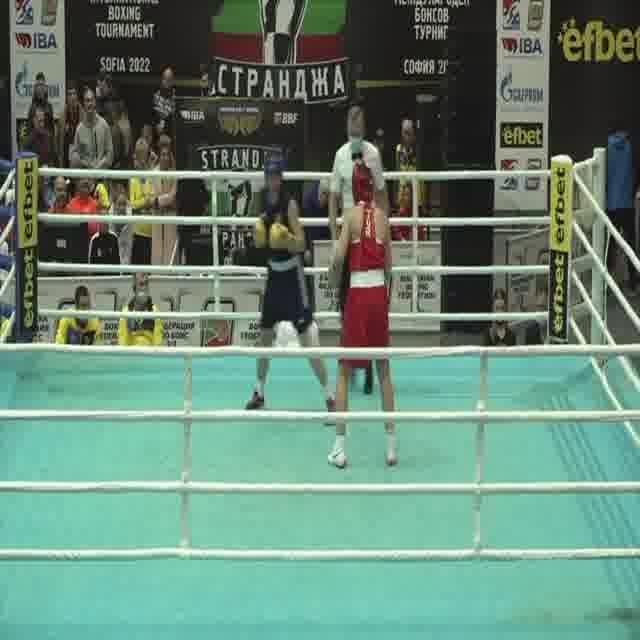blue-player: (239, 158, 341, 426)
red-player: (325, 164, 400, 470)
referee: (326, 100, 393, 397)
